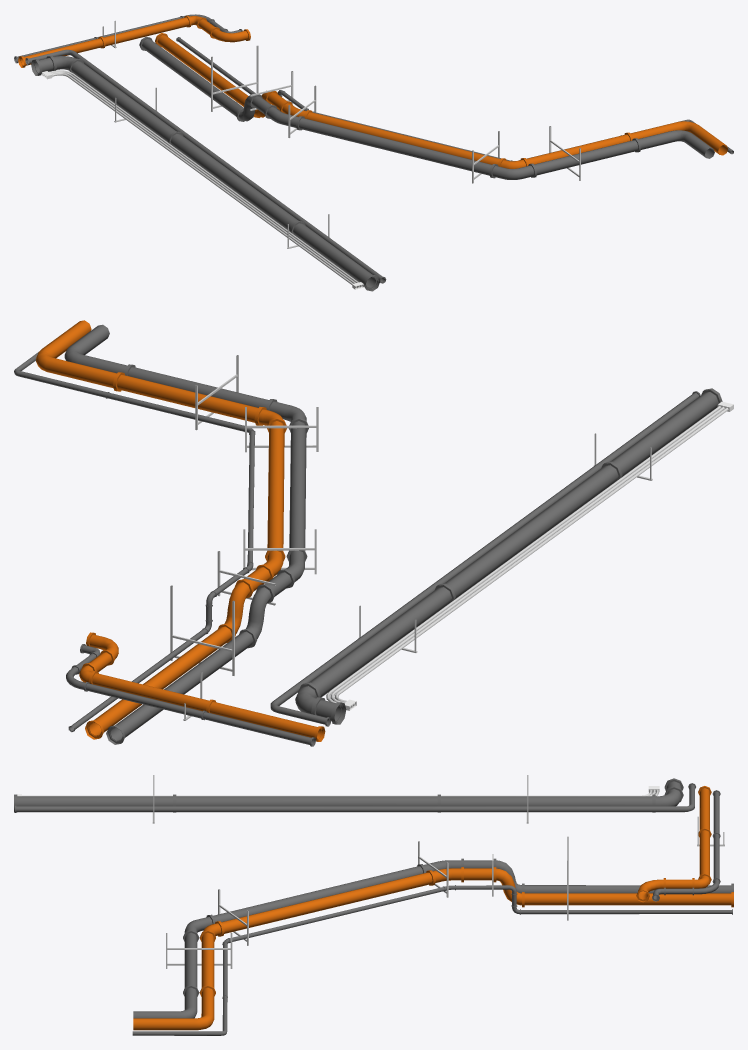
The model's file is SM_H_Building_Tide_Corridor_02B_ATLAS.fbx.
The picture shows the model from 3 angles, top to bottom: view 1: azimuth 30°, elevation 25°; view 2: azimuth 150°, elevation 25°; view 3: azimuth 270°, elevation 25°; orthographic projection. The views are drawn at different scales.
Visible parts, largest first — view 1: SM_H_Building_Tide_Corridor_02B_ATLAS; view 2: SM_H_Building_Tide_Corridor_02B_ATLAS; view 3: SM_H_Building_Tide_Corridor_02B_ATLAS.
Part boxes in pixels (box(x1,y1,x2,y2)): SM_H_Building_Tide_Corridor_02B_ATLAS: box(14, 14, 733, 291); SM_H_Building_Tide_Corridor_02B_ATLAS: box(14, 320, 733, 746); SM_H_Building_Tide_Corridor_02B_ATLAS: box(14, 775, 733, 1035).
Bounding box in the file's own units: 2683 × 3448 × 318.
